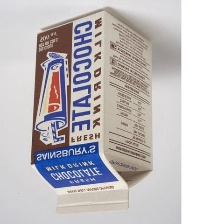carton: (27, 9, 157, 216)
